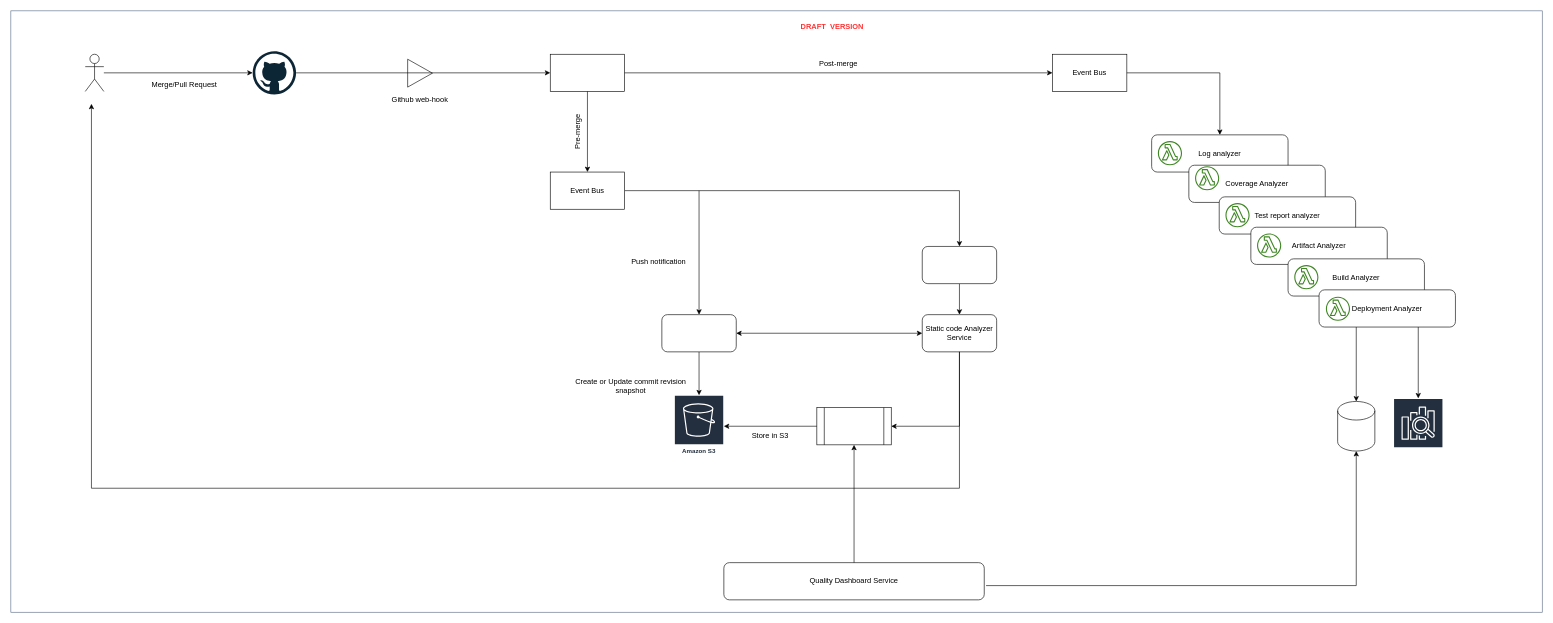
This 1553x623 diagram has some shape labels left out. Here are the shapes that lost their labels. From the top down, the centre of each, then its label:
point (94, 72): User
point (587, 72): API Gateway
point (959, 265): PR Manager Service
point (698, 333): Snapshot Service
point (853, 426): Generate PR report
point (1418, 435): Amazon Elasticsearch Service
